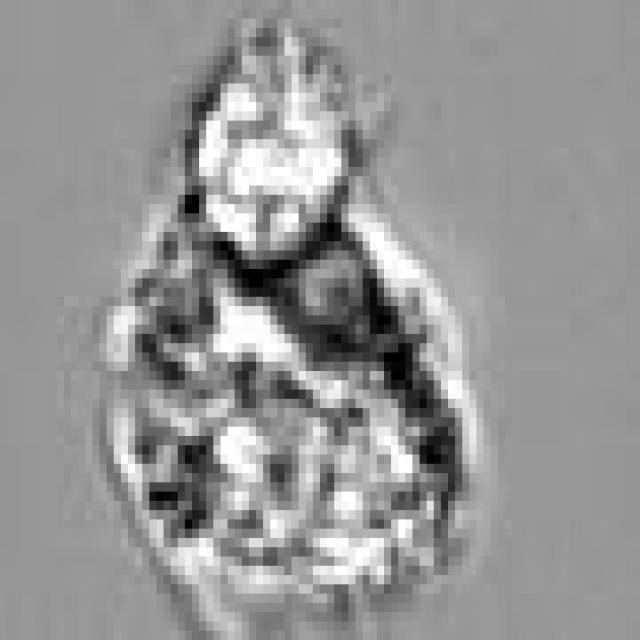Cancer Cell: (114, 167, 476, 612)
WBC: (199, 18, 363, 260)
